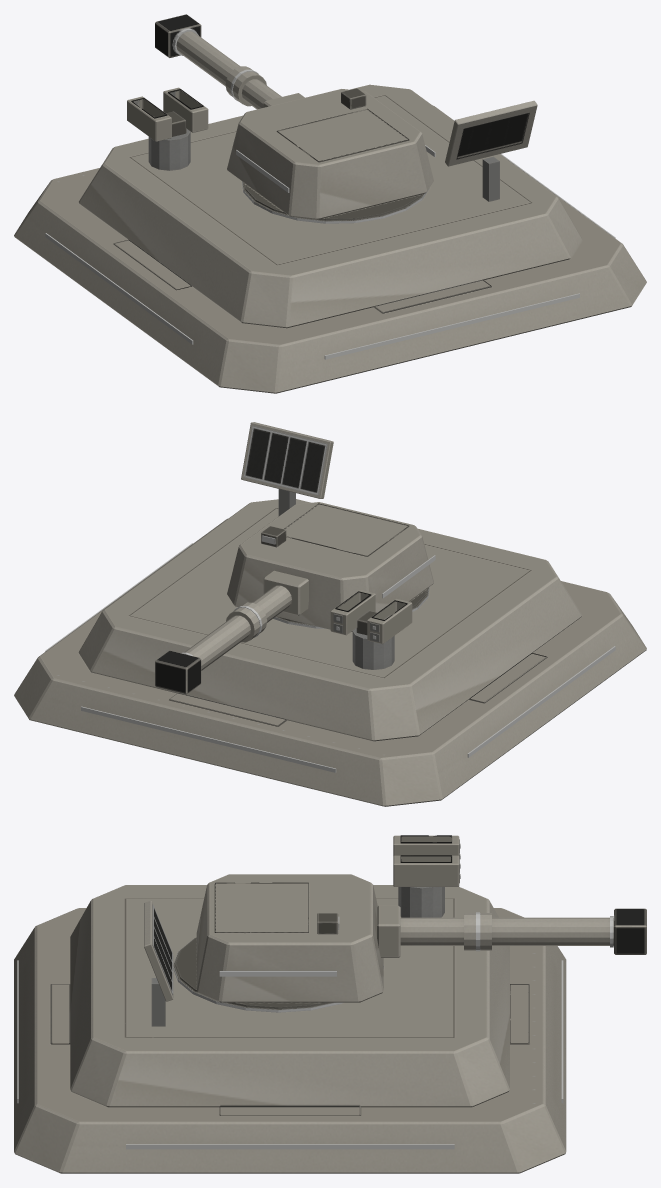
The model's file is ord_citadel.fbx.
The picture shows the model from 3 angles, top to bottom: view 1: azimuth 30°, elevation 25°; view 2: azimuth 150°, elevation 25°; view 3: azimuth 270°, elevation 25°; orthographic projection. The views are drawn at different scales.
Visible parts, largest first — view 1: base_bar, turret_bar, barrel_bar, radar_bar, launcher_bar, base_glow_running_bar, base_glow_power_bar; view 2: base_bar, turret_bar, barrel_bar, radar_bar, launcher_bar, base_glow_running_bar, radar_glow_running_bar; view 3: base_bar, turret_bar, barrel_bar, launcher_bar, base_glow_running_bar, radar_bar, turret_glow_running_bar, base_glow_power_bar.
Boxes of the visible parts, <box> form: base_bar: <box>14,84,646,393</box>; turret_bar: <box>227,88,433,219</box>; barrel_bar: <box>155,14,304,109</box>; radar_bar: <box>445,100,537,166</box>; launcher_bar: <box>127,87,208,141</box>; base_glow_running_bar: <box>45,154,615,359</box>; base_glow_power_bar: <box>242,181,429,223</box>; base_bar: <box>14,489,646,806</box>; turret_bar: <box>227,502,433,631</box>; barrel_bar: <box>155,570,308,694</box>; radar_bar: <box>241,422,333,498</box>; launcher_bar: <box>330,590,412,644</box>; base_glow_running_bar: <box>45,543,615,772</box>; radar_glow_running_bar: <box>243,426,327,494</box>; base_bar: <box>14,885,566,1173</box>; turret_bar: <box>196,874,383,1002</box>; barrel_bar: <box>377,905,646,957</box>; launcher_bar: <box>393,835,459,886</box>; base_glow_running_bar: <box>17,960,563,1149</box>; radar_bar: <box>144,900,173,1001</box>; turret_glow_running_bar: <box>219,916,339,976</box>; base_glow_power_bar: <box>173,966,383,1012</box>.
Bounding box in the file's own units: 2353 × 1097 × 2697.
2 materials, 2 textured.
